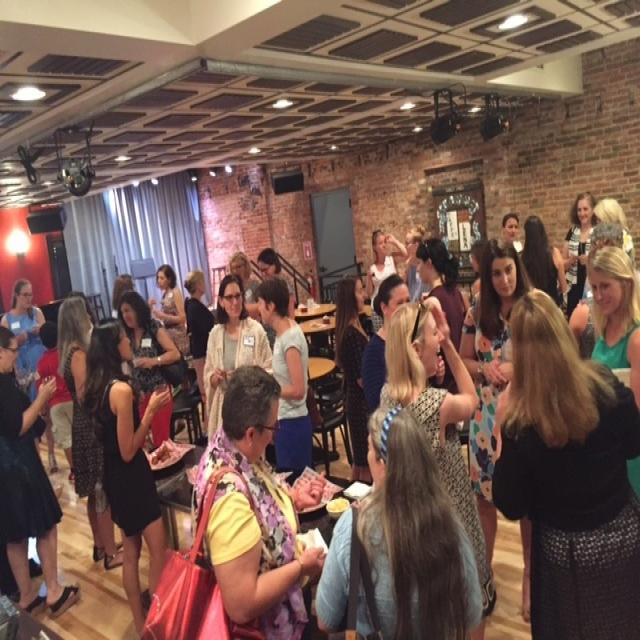body: (491, 286, 640, 640), (183, 361, 329, 640), (313, 401, 484, 639), (377, 292, 489, 639), (81, 317, 174, 640), (456, 233, 532, 624), (0, 322, 82, 618), (56, 293, 125, 571), (584, 243, 640, 500), (201, 272, 273, 448), (359, 273, 446, 415), (115, 288, 189, 451), (254, 274, 313, 470), (333, 274, 375, 486), (565, 222, 624, 362), (413, 236, 464, 396), (34, 320, 78, 487), (0, 277, 48, 403), (559, 188, 601, 325), (248, 246, 297, 354), (516, 212, 570, 308), (181, 266, 216, 406), (363, 227, 409, 333), (151, 262, 191, 362), (400, 223, 433, 308), (110, 272, 159, 321), (464, 237, 487, 316), (228, 251, 262, 301), (0, 551, 42, 588), (589, 195, 629, 228), (498, 212, 524, 255), (45, 469, 65, 500), (83, 322, 97, 347)
